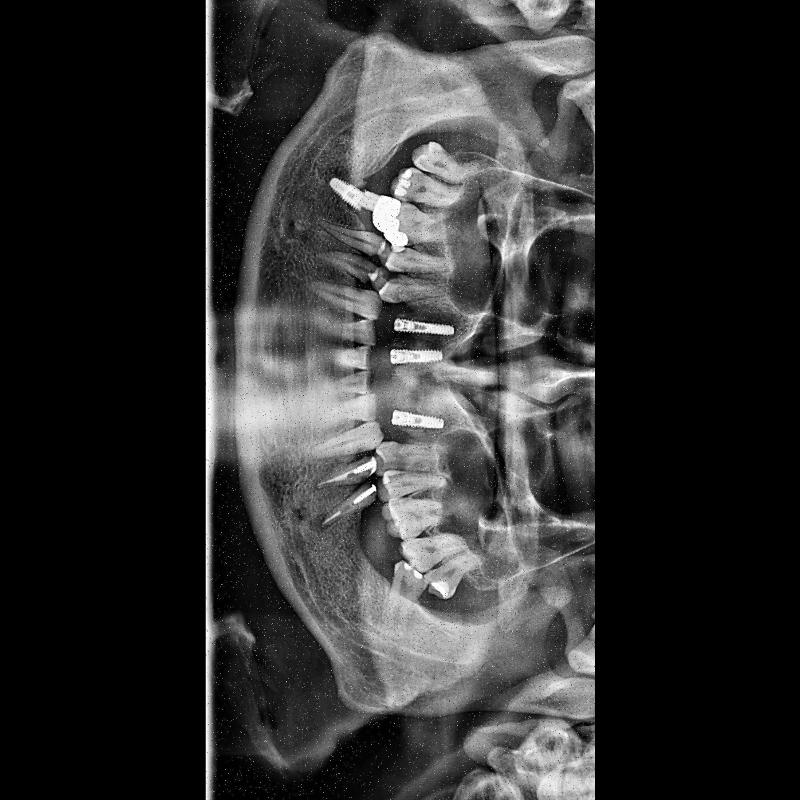osstem: (323, 175, 365, 211), (394, 314, 456, 338), (389, 409, 445, 431), (390, 348, 442, 364)
